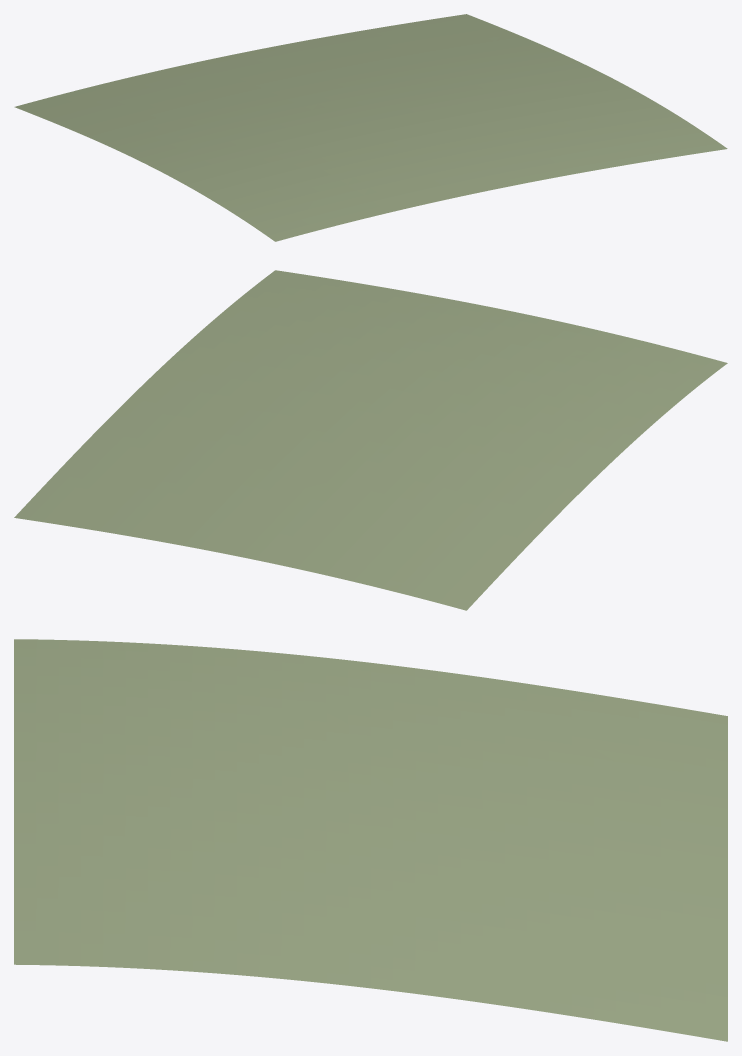
The model's file is valley-2-14.glb.
3 views of the same model, one above another, from view 1: azimuth 30°, elevation 25°; view 2: azimuth 150°, elevation 25°; view 3: azimuth 270°, elevation 25° (orthographic). The views are drawn at different scales.
Parts seen in each view (by area): view 1: valley-2-14; view 2: valley-2-14; view 3: valley-2-14.
Part boxes in pixels (bbox=[...]): valley-2-14: bbox=[14, 14, 727, 241]; valley-2-14: bbox=[14, 270, 727, 610]; valley-2-14: bbox=[14, 639, 727, 1041].
Size of the model in its own units: 256 by 40.71 by 256.
